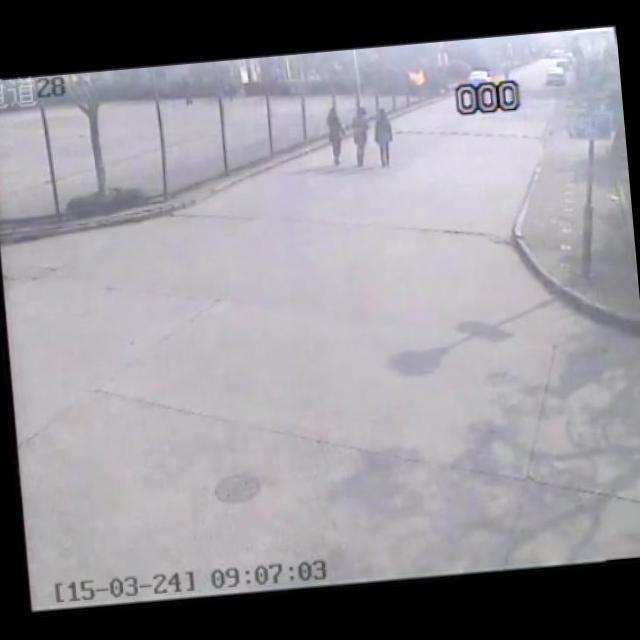person: (342, 101, 376, 170), (369, 105, 397, 167), (324, 104, 348, 166)
